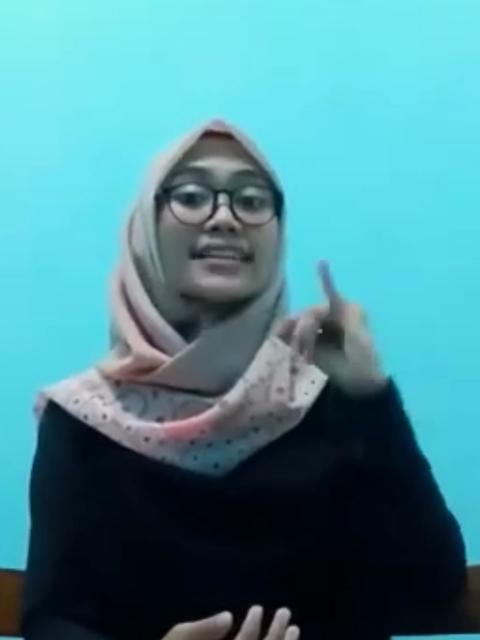J: (269, 248, 384, 398)
